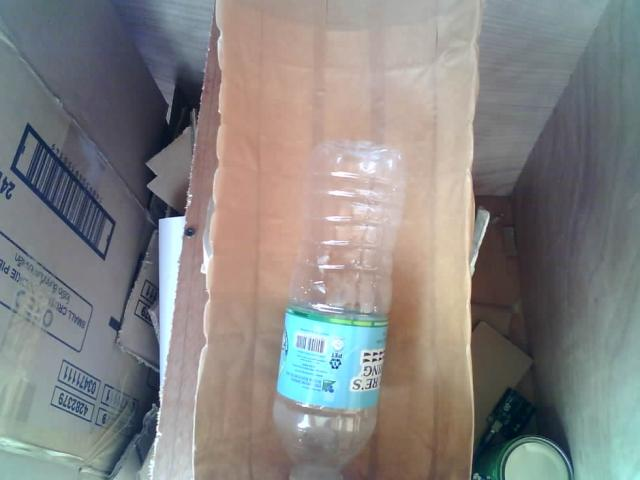small_bottle: (248, 128, 417, 480)
